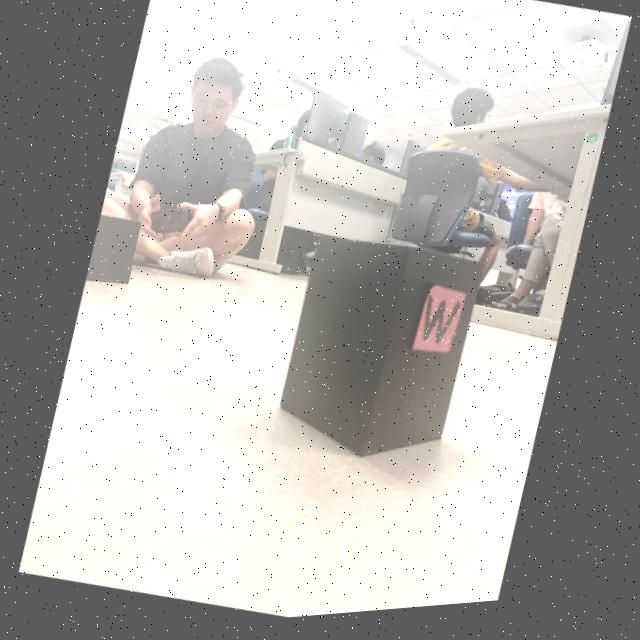W: (422, 302, 459, 350)
